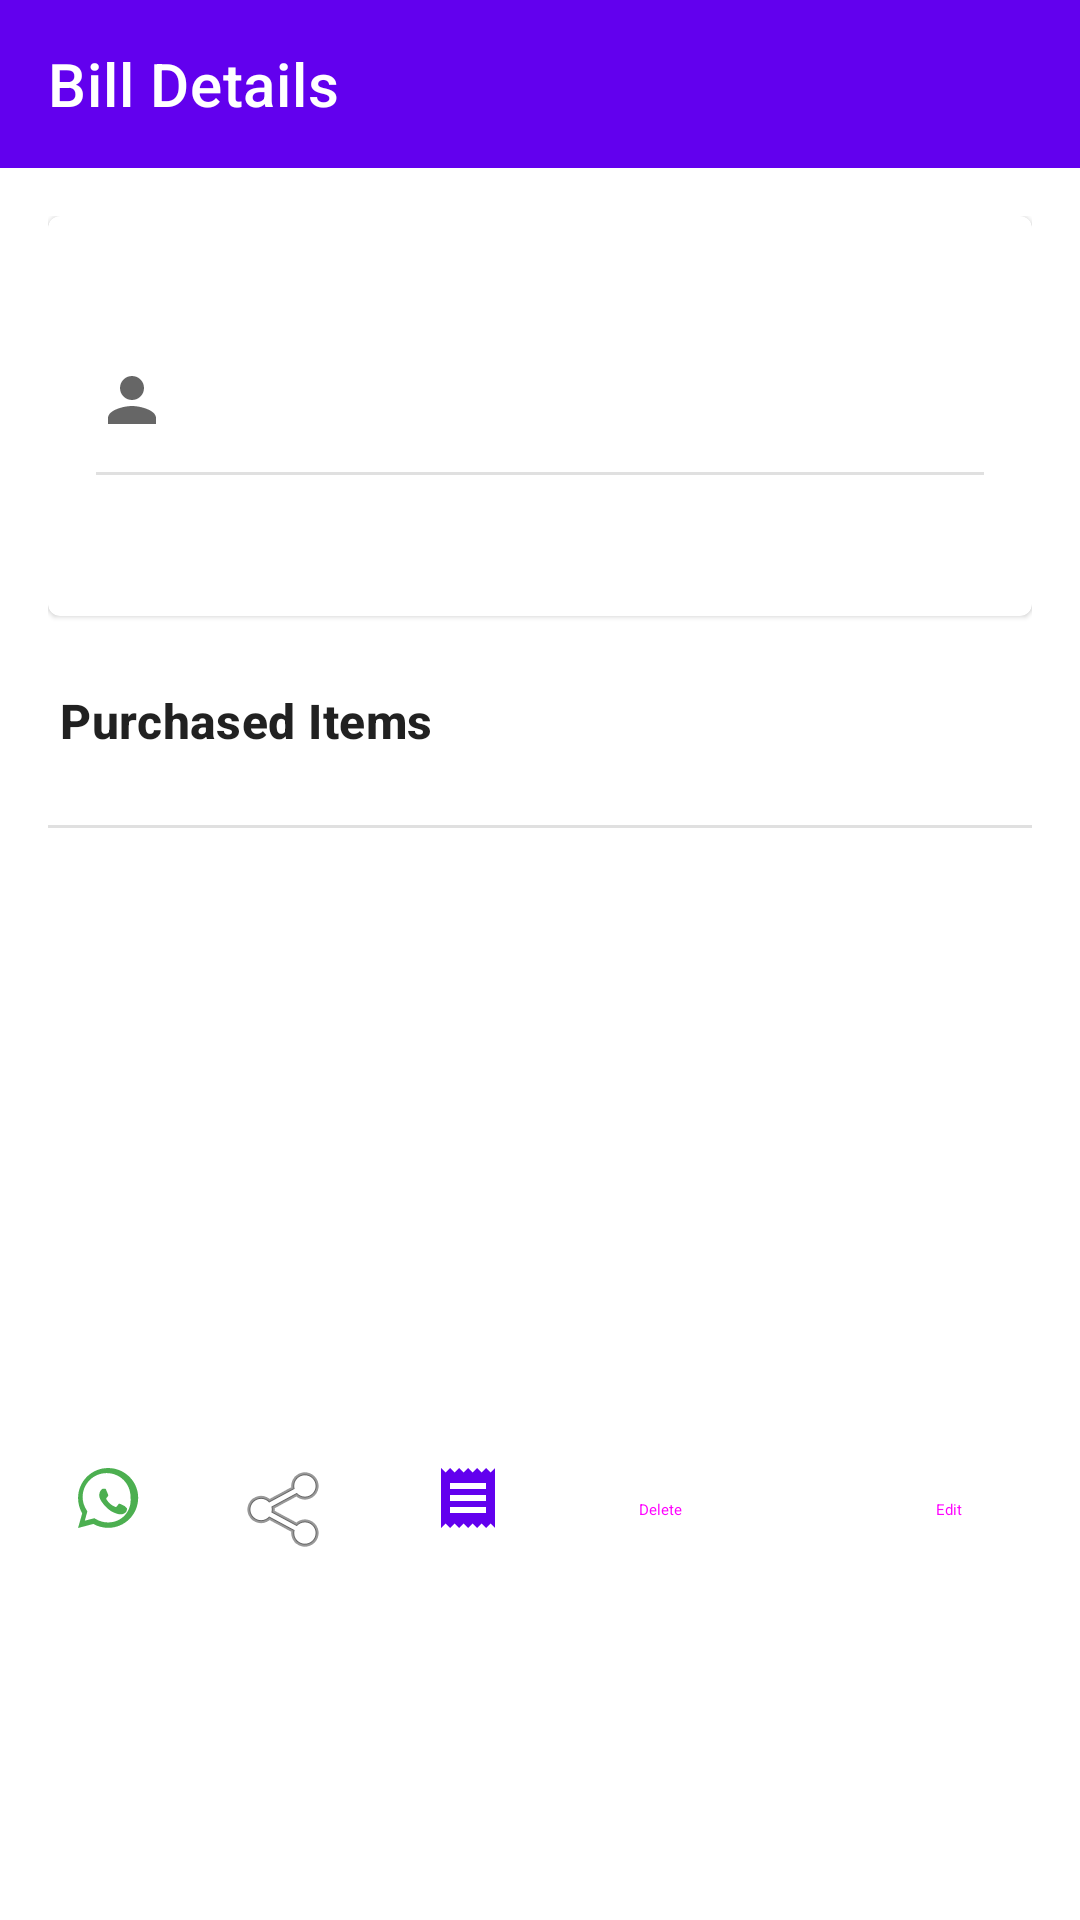

Icon click points for this 1080px x 1920px phone screenshot, format point (x, y):
receipt: point (468, 1498)
share: point (283, 1509)
